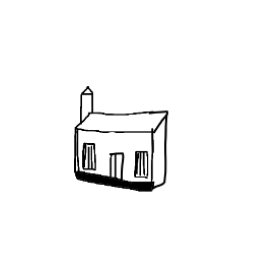chimney: (77, 81, 104, 125)
closed_window: (131, 148, 152, 181), (80, 140, 101, 173)
door: (105, 151, 128, 182)
roof: (72, 109, 170, 143)
small_house: (2, 4, 260, 260)
wall: (70, 125, 159, 191)
